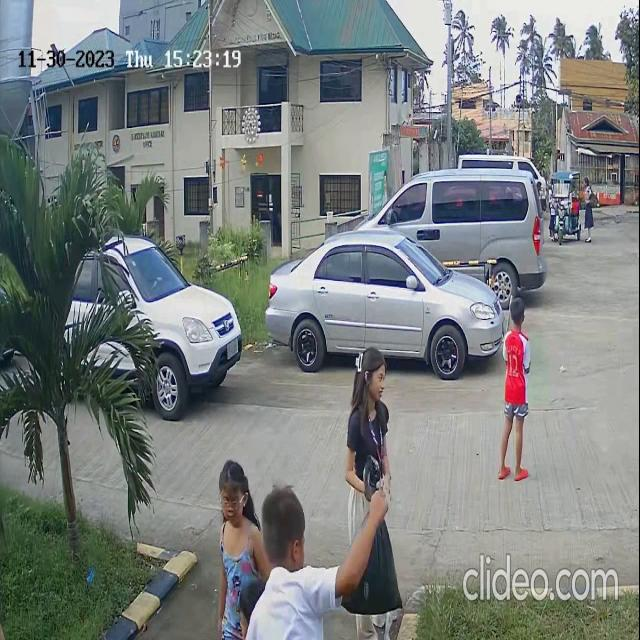garbage: (332, 520, 408, 614)
person: (344, 342, 392, 526), (491, 303, 536, 485), (215, 460, 257, 624)
